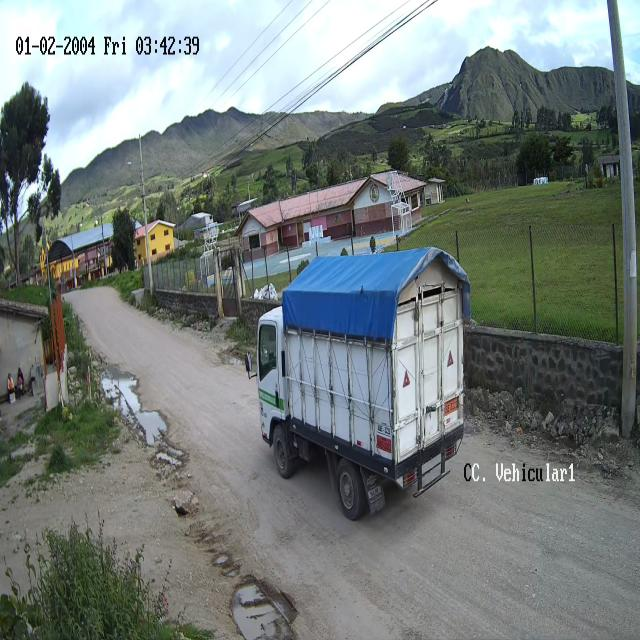TRUCK: (258, 248, 471, 522)
